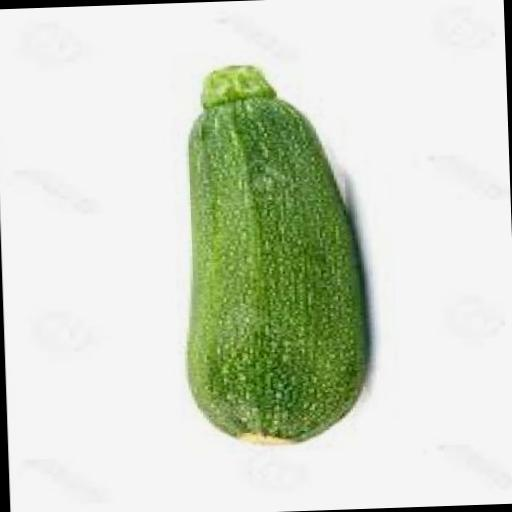biodegradable: (171, 65, 366, 450)
